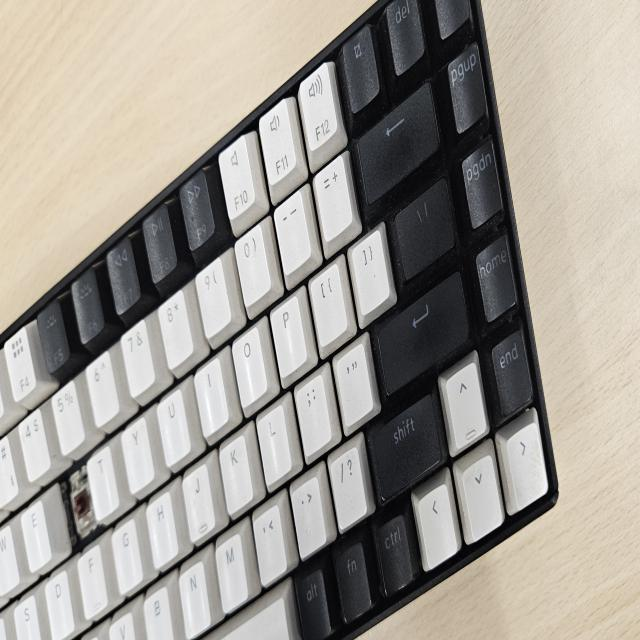C: (70, 476, 88, 530)
